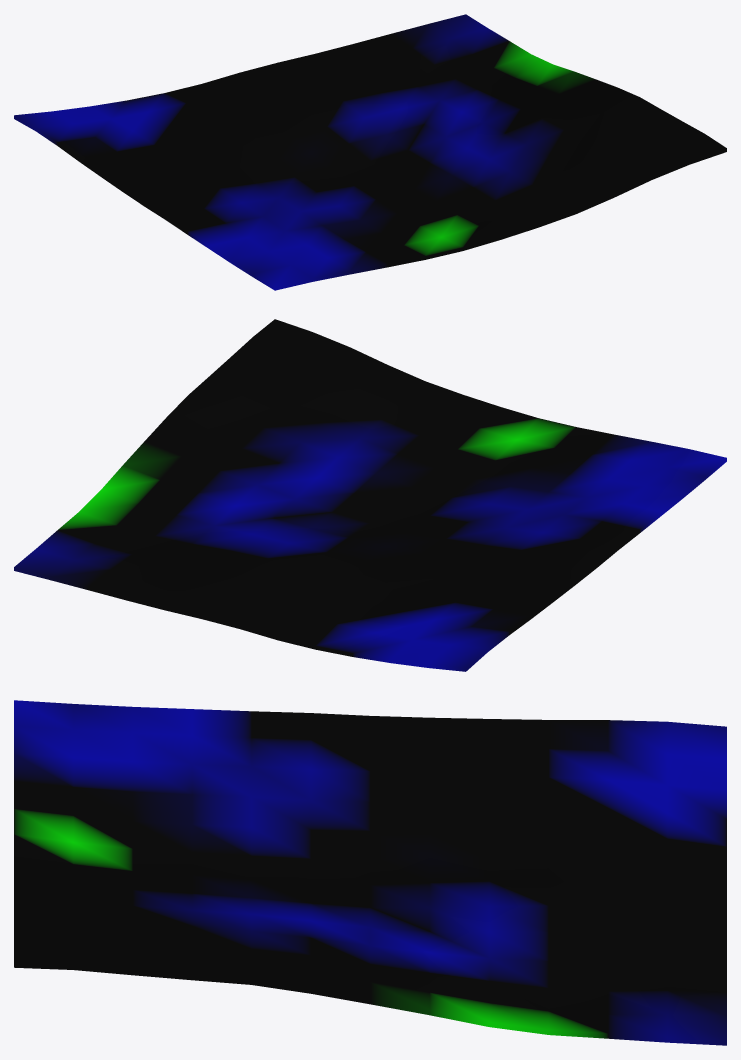
File: coast_22_1.glb
3 views of the same model, one above another, from view 1: azimuth 30°, elevation 25°; view 2: azimuth 150°, elevation 25°; view 3: azimuth 270°, elevation 25° (orthographic). The views are drawn at different scales.
Visible parts, largest first — view 1: terrain; view 2: terrain; view 3: terrain.
Part boxes in pixels (x1,y1,x2,y2): terrain: [14, 14, 726, 290]; terrain: [14, 319, 726, 671]; terrain: [14, 700, 726, 1045].
Bounding box in the file's own units: 192 × 26.79 × 192.
